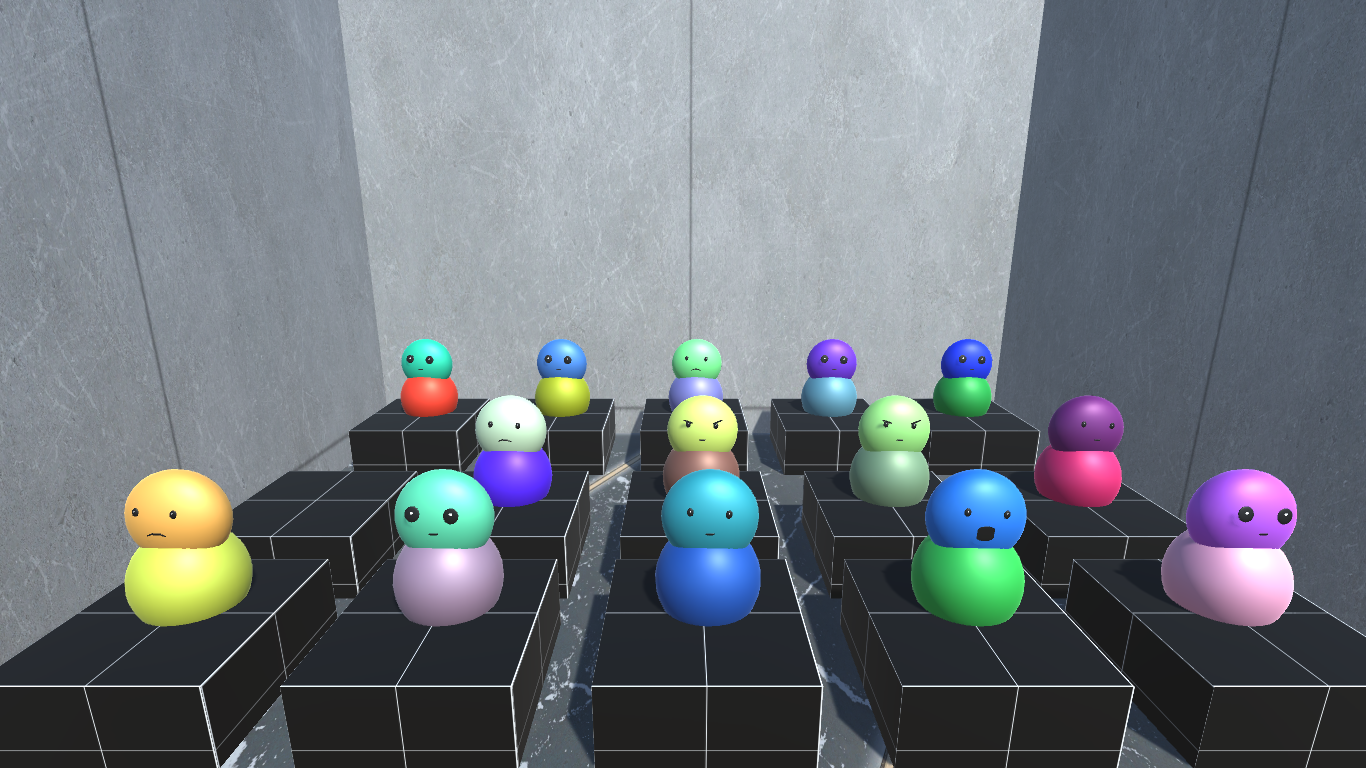blob_atento: (1186, 464, 1310, 553), (389, 468, 493, 554), (394, 337, 456, 381), (801, 336, 860, 381), (940, 334, 993, 381), (534, 341, 589, 377)
blob_normal: (656, 466, 767, 558), (1041, 389, 1131, 456)
blob_raiva: (850, 396, 932, 457), (660, 395, 735, 458)
blob_surpreso: (923, 456, 1028, 563)
blob_triste: (119, 462, 241, 551), (474, 392, 548, 455), (668, 336, 721, 379)
